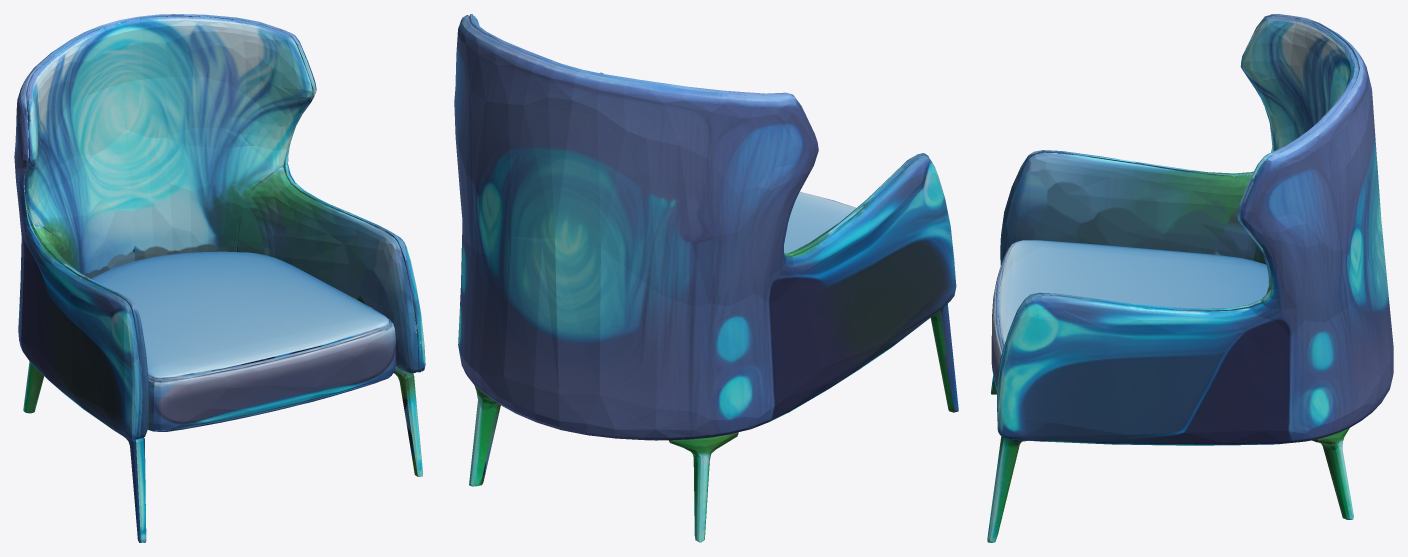
The model's file is edited_mesh.glb.
The picture shows the model from 3 angles, left to right: view 1: azimuth 30°, elevation 25°; view 2: azimuth 150°, elevation 25°; view 3: azimuth 270°, elevation 25°; orthographic projection. The views are drawn at different scales.
Visible parts, largest first — view 1: solid_001_wire; view 2: solid_001_wire; view 3: solid_001_wire.
Boxes of the visible parts, x1,y1,x2,y2 form: solid_001_wire: [14, 14, 425, 542]; solid_001_wire: [454, 14, 958, 542]; solid_001_wire: [987, 14, 1393, 542].
Bounding box in the file's own units: 1.17 × 1.37 × 1.26.
Materials: 1 (1 with a texture image).
